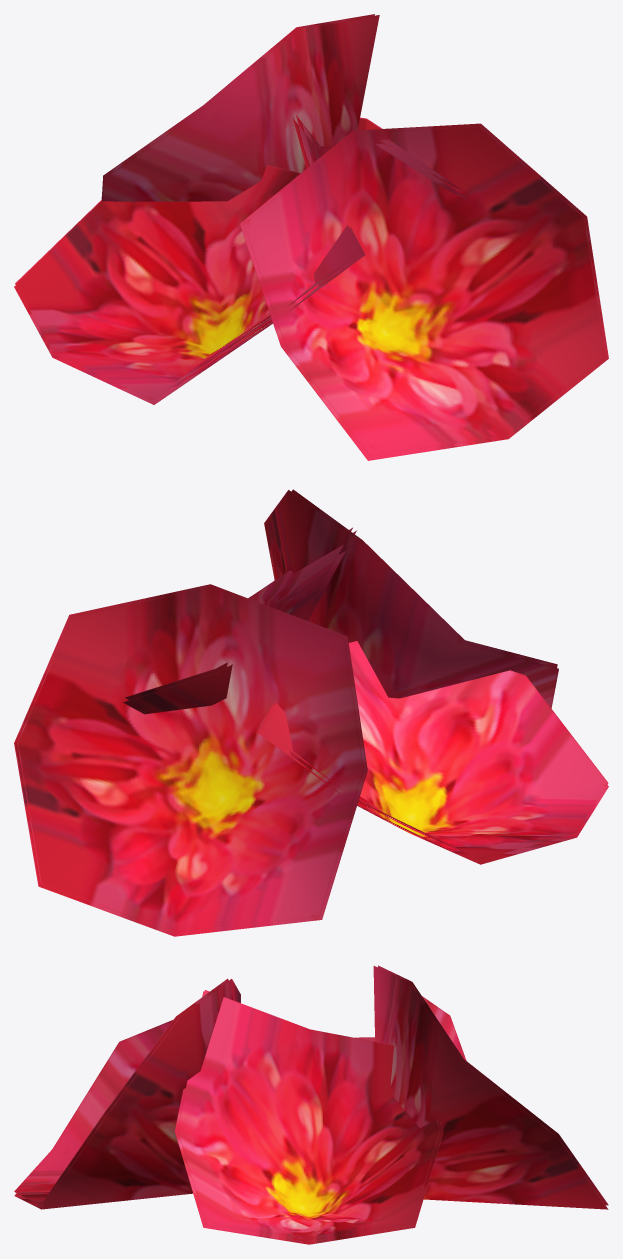
Rendered from flower_red_1.fbx.
3 renders of one model, top to bottom at view 1: azimuth 30°, elevation 25°; view 2: azimuth 150°, elevation 25°; view 3: azimuth 270°, elevation 25°, orthographic. The views are drawn at different scales.
Parts seen in each view (by area): view 1: flower_red_1; view 2: flower_red_1; view 3: flower_red_1.
Part boxes in pixels (left/top/right/bottom): flower_red_1: left=14, top=14, right=608, bottom=460; flower_red_1: left=14, top=489, right=608, bottom=936; flower_red_1: left=14, top=965, right=608, bottom=1244.
Bounding box in the file's own units: 0.8174 × 0.41 × 0.9509.
